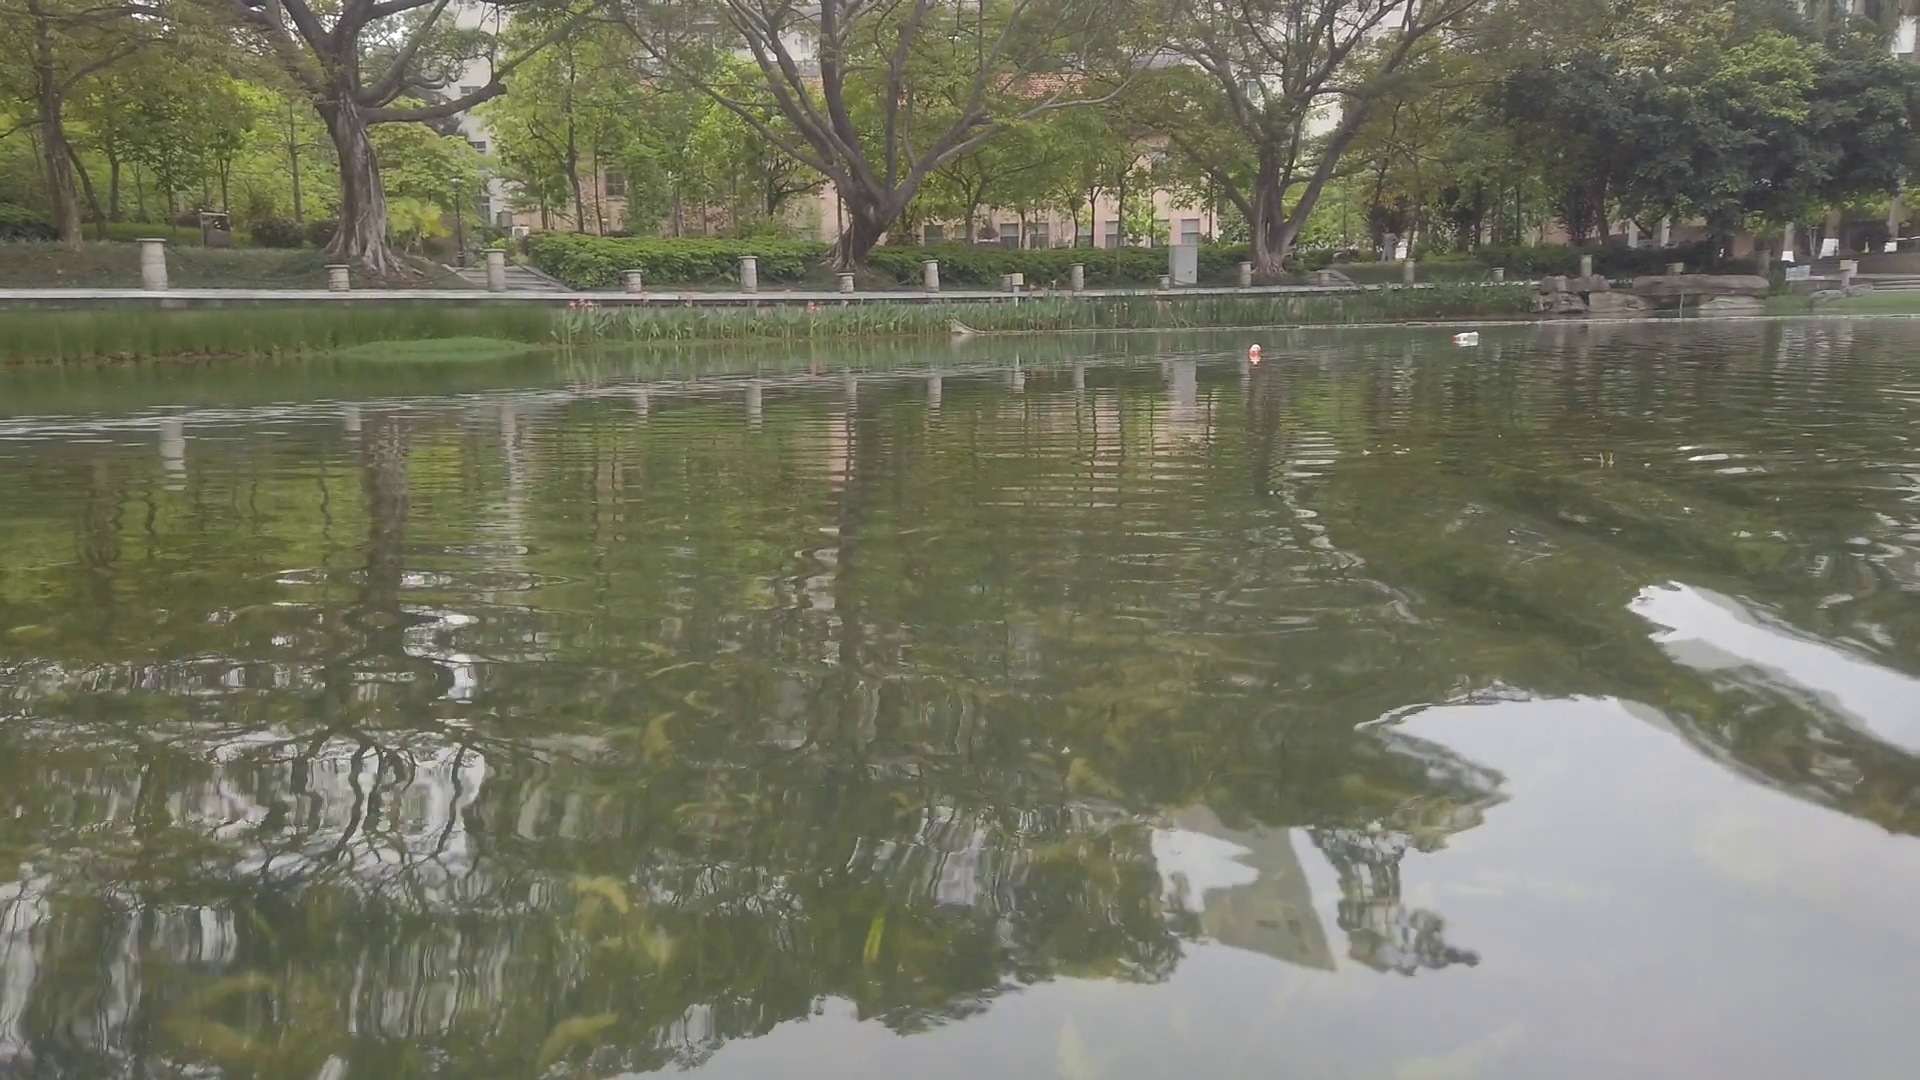bottle: (1453, 330, 1480, 343), (1247, 343, 1266, 361)
